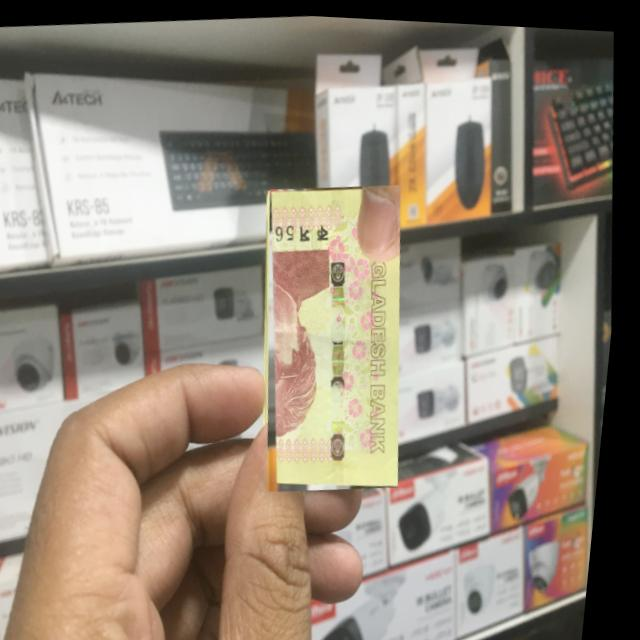Taka: (250, 175, 430, 493)
